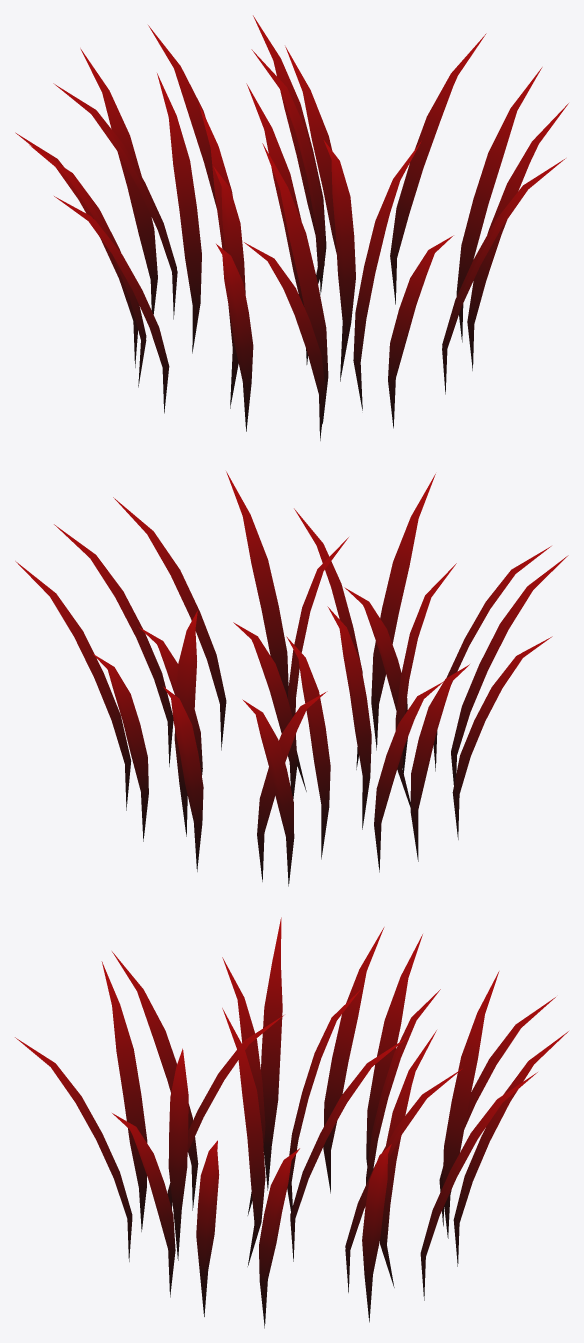
File: Grass.fbx
3 views of the same model, one above another, from view 1: azimuth 30°, elevation 25°; view 2: azimuth 150°, elevation 25°; view 3: azimuth 270°, elevation 25° (orthographic). The views are drawn at different scales.
Parts seen in each view (by area): view 1: Grass; view 2: Grass; view 3: Grass.
Boxes of the visible parts, box(x1,y1,x2,y2) form: Grass: box(15, 15, 568, 440); Grass: box(15, 471, 568, 886); Grass: box(15, 917, 568, 1328).
Size of the model in its own units: 9.14 by 9.01 by 4.49.
